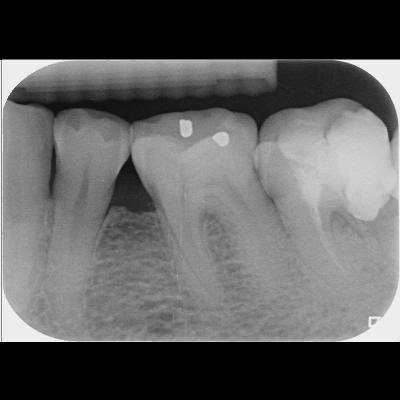tooth: (44, 106, 134, 326)
